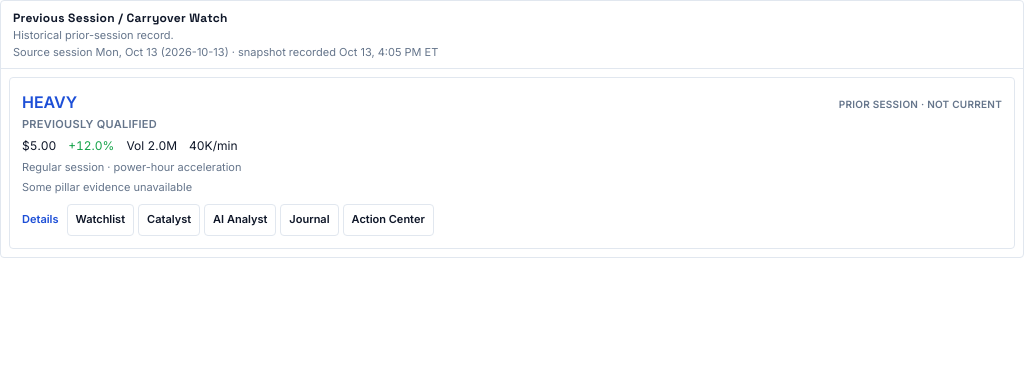
CarryoverWatchPanel compact cards › hides pillar lines until Details is opened
Check: the text "Prior session · not current" is shown, box [839,97,1002,112]
Check: the text "move: pass" is not shown
Click the button "Details".
click(40, 220)  # box [22,204,58,236]
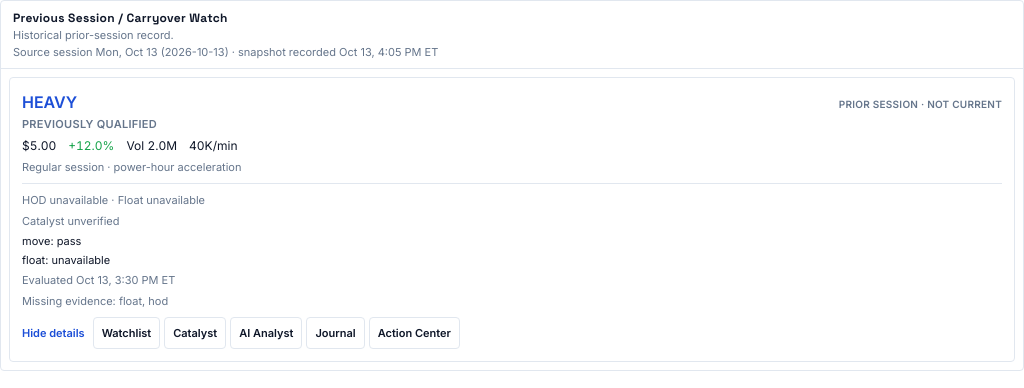
Check: the list item "move: pass" is shown, box [22,234,81,248]
Click the button "Hide details".
click(53, 333)  # box [22,317,85,349]
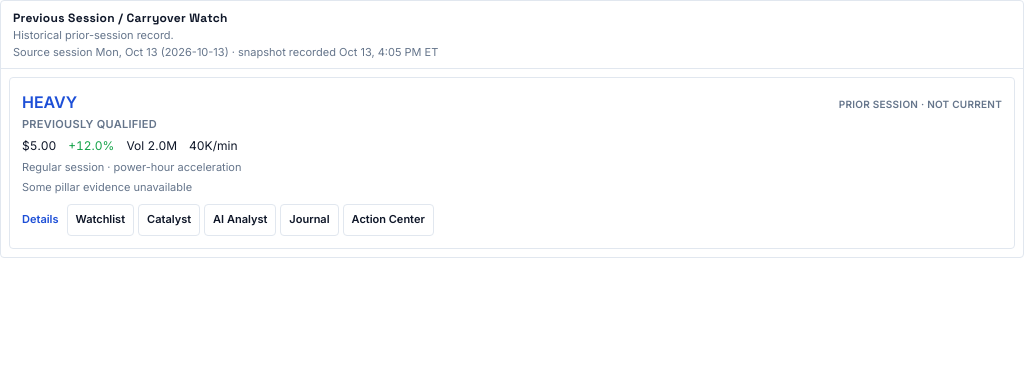
Check: the list item "move: pass" is gone
